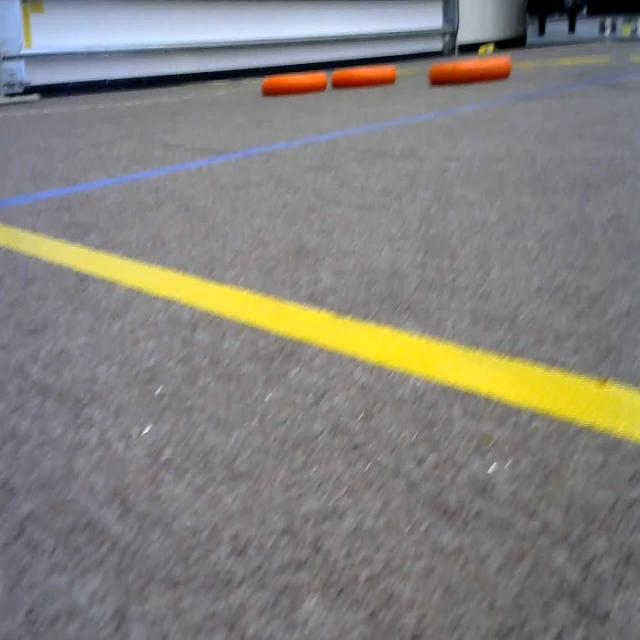note: (332, 54, 407, 97), (259, 59, 325, 104), (426, 54, 513, 86)
